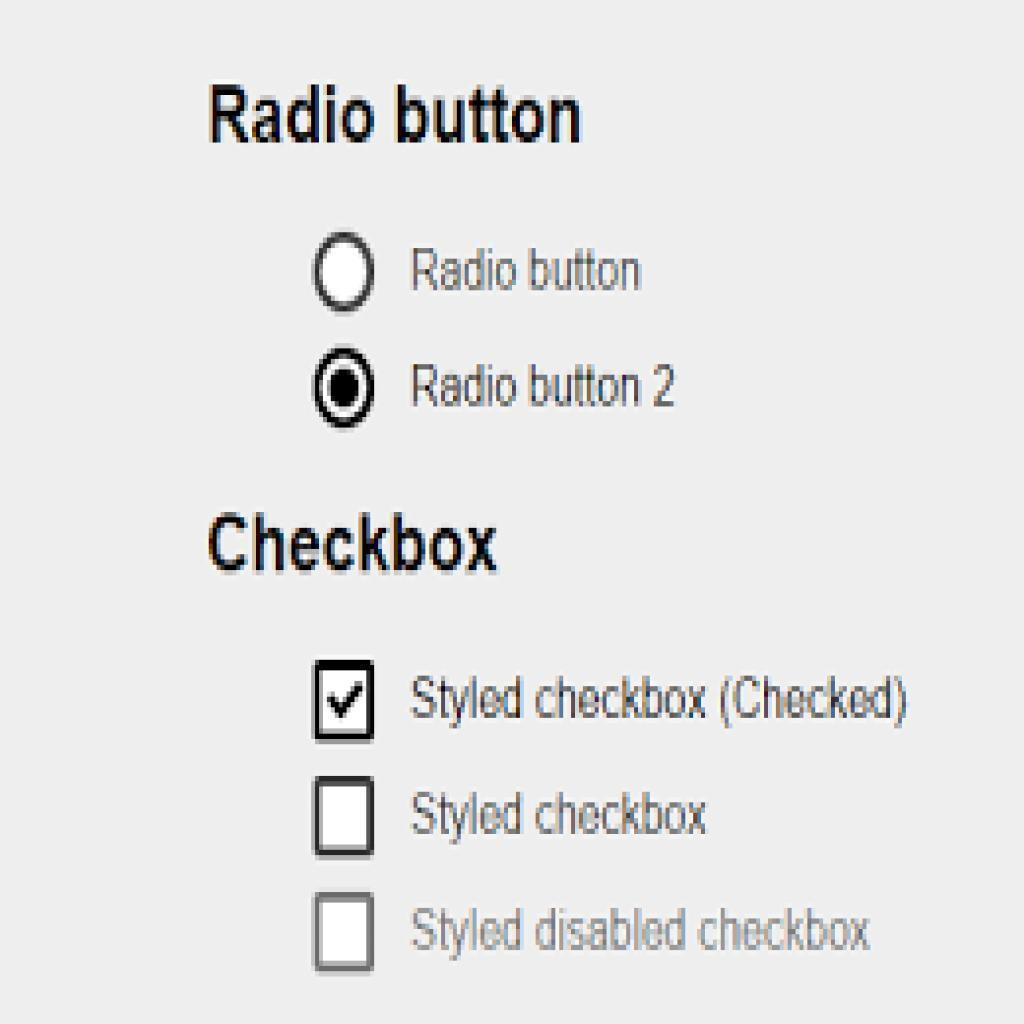checkbox: (312, 660, 377, 746), (313, 777, 377, 860), (315, 891, 376, 973)
label: (408, 898, 880, 968), (411, 668, 915, 732), (204, 78, 597, 154), (204, 504, 507, 589), (408, 784, 723, 854), (410, 355, 690, 416), (410, 237, 650, 303)
radio: (312, 228, 377, 316), (313, 346, 377, 435)
